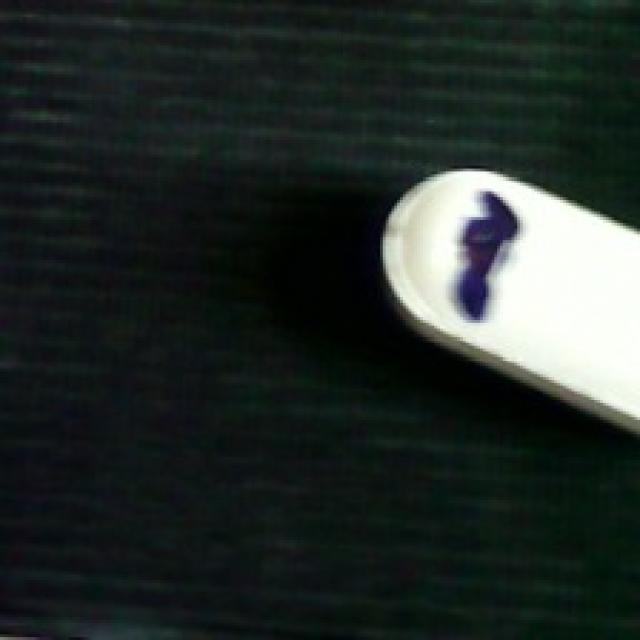defected: (371, 157, 640, 444)
